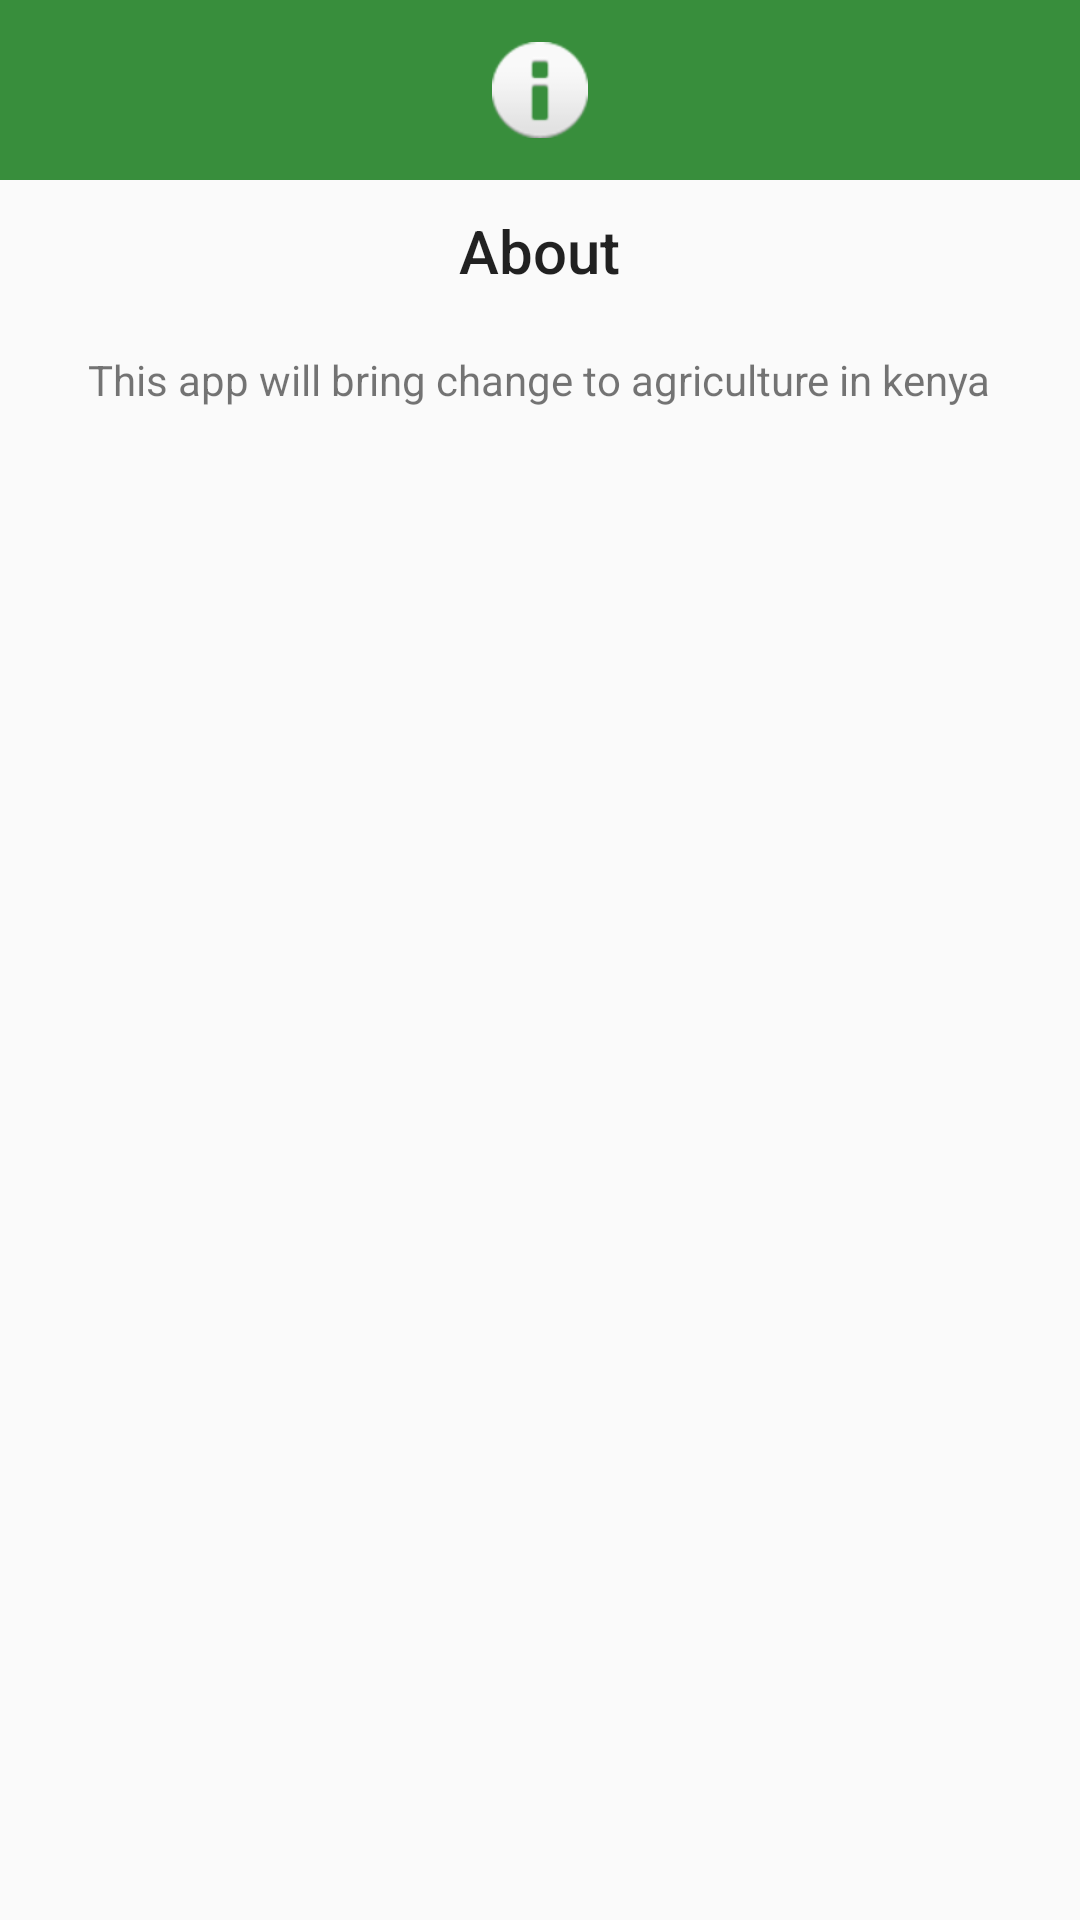

Where to tap for icons on this 1080x1920 app screen, as [x,y]:
info: [540,90]
